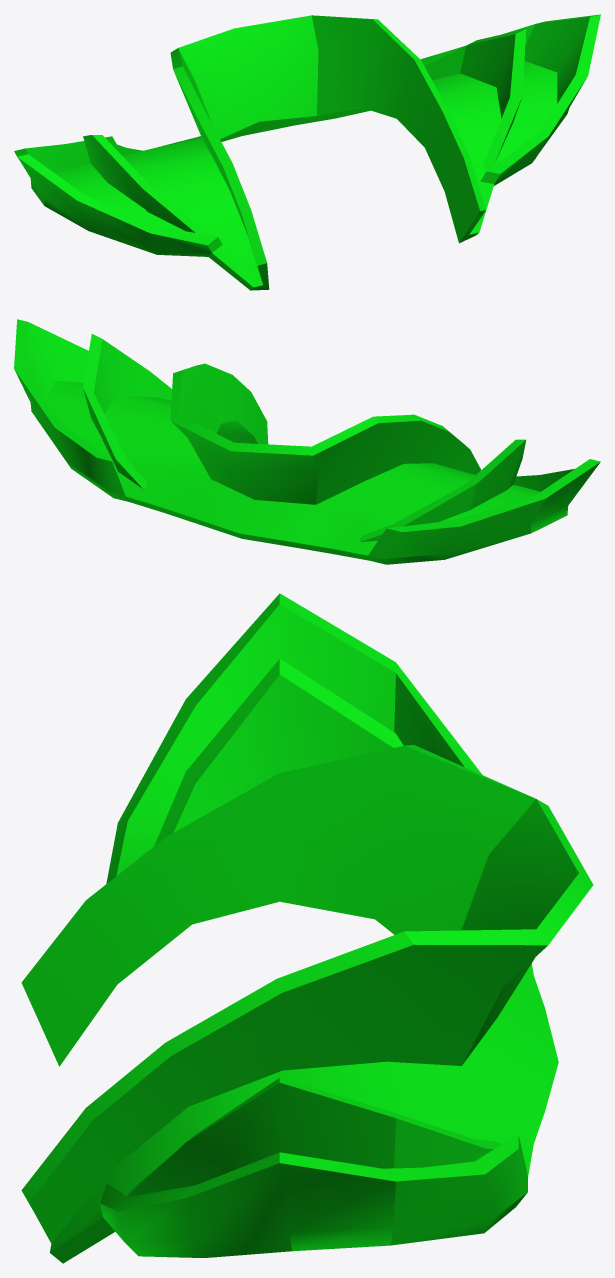
Rendered from Cleric_Shoulderpads.fbx.
The picture shows the model from 3 angles, top to bottom: view 1: azimuth 30°, elevation 25°; view 2: azimuth 150°, elevation 25°; view 3: azimuth 270°, elevation 25°; orthographic projection. The views are drawn at different scales.
Visible parts, largest first — view 1: ShoulderPads; view 2: ShoulderPads; view 3: ShoulderPads.
Part boxes in pixels (x1,y1,x2,y2): ShoulderPads: (14,14,600,290); ShoulderPads: (14,319,600,564); ShoulderPads: (21,593,593,1263).
Bounding box in the file's own units: 166 × 43.63 × 70.47.
